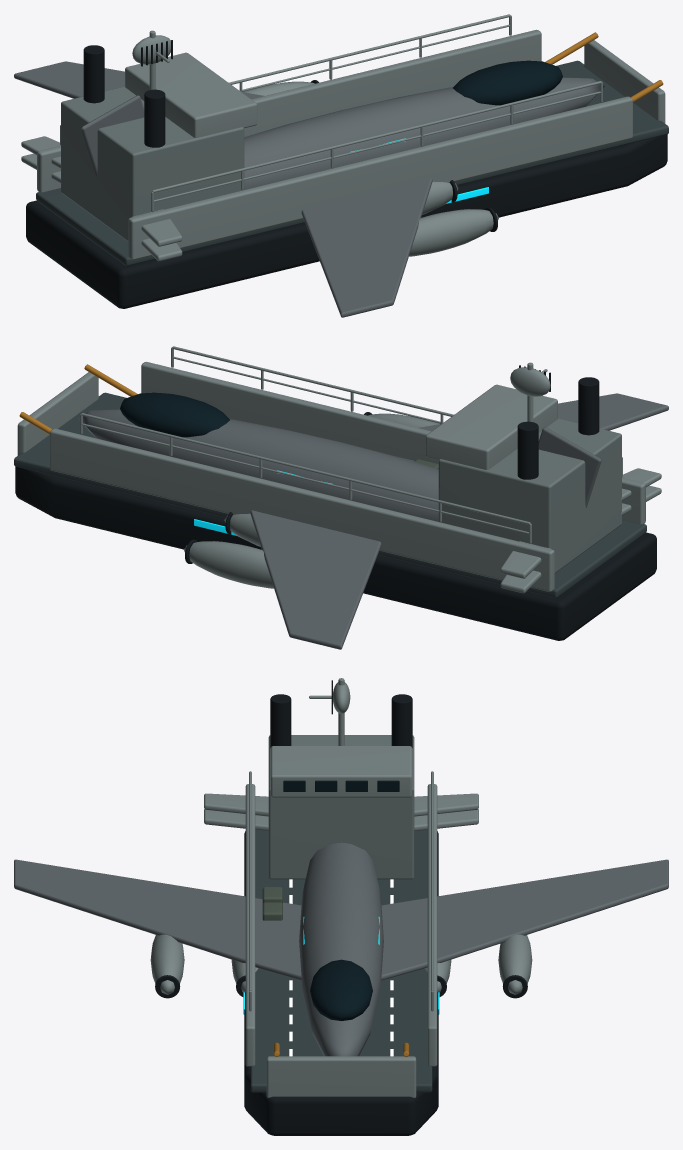
The model's file is logistics-library.glb.
3 views of the same model, one above another, from view 1: azimuth 30°, elevation 25°; view 2: azimuth 150°, elevation 25°; view 3: azimuth 270°, elevation 25° (orthographic).
Visible parts, largest first — view 1: 平底登陆舰体, 舷侧防护, 后部舰桥, 气动机身.001, 后掠主翼.001, 舷侧防护.001, 驾驶室, 车辆甲板, 机鼻驾驶舱.001, 发动机短舱.004, 舰艏跳板, 护栏 (+11 smaller); view 2: 平底登陆舰体, 舷侧防护.001, 后部舰桥, 气动机身.001, 后掠主翼.001, 舷侧防护, 驾驶室, 车辆甲板, 机鼻驾驶舱.001, 发动机短舱.007, 舰艏跳板, 护栏.002 (+11 smaller); view 3: 后掠主翼.001, 车辆甲板, 气动机身.001, 后部舰桥, 平底登陆舰体, 驾驶室, 舰艏跳板, 机鼻驾驶舱.001, 舷侧防护, 舷侧防护.001, 水平尾翼.001, 水平尾翼 (+4 smaller).
Part boxes in pixels (x1,y1,x2,y2): 平底登陆舰体: (26,134,667,308); 舷侧防护: (128,96,632,259); 后部舰桥: (61,86,244,241); 气动机身.001: (244,77,604,189); 后掠主翼.001: (14,61,432,317); 舷侧防护.001: (37,29,541,192); 驾驶室: (125,52,257,137); 车辆甲板: (36,60,668,265); 机鼻驾驶舱.001: (453,60,562,105); 发动机短舱.004: (409,209,498,256); 舰艏跳板: (584,40,665,123); 护栏: (152,81,601,192); 平底登陆舰体: (15,466,656,640); 舷侧防护.001: (50,428,554,591); 后部舰桥: (438,418,621,573); 气动机身.001: (78,409,438,521); 后掠主翼.001: (250,393,668,649); 舷侧防护: (141,361,645,524); 驾驶室: (425,384,557,469); 车辆甲板: (14,392,646,597); 机鼻驾驶舱.001: (120,392,229,437); 发动机短舱.007: (184,541,273,588); 舰艏跳板: (17,372,98,455); 护栏.002: (81,413,530,524); 后掠主翼.001: (14,859,668,980); 车辆甲板: (250,830,432,1092); 气动机身.001: (299,842,383,1056); 后部舰桥: (268,735,414,879); 平底登陆舰体: (244,831,438,1135); 驾驶室: (270,746,412,797); 舰艏跳板: (266,1056,416,1097); 机鼻驾驶舱.001: (310,959,372,1020); 舷侧防护: (245,784,255,1066); 舷侧防护.001: (427,784,437,1066); 水平尾翼.001: (204,793,478,816); 水平尾翼: (204,809,478,831).
Bounding box in the file's own units: 16 × 6.15 × 16.2.
